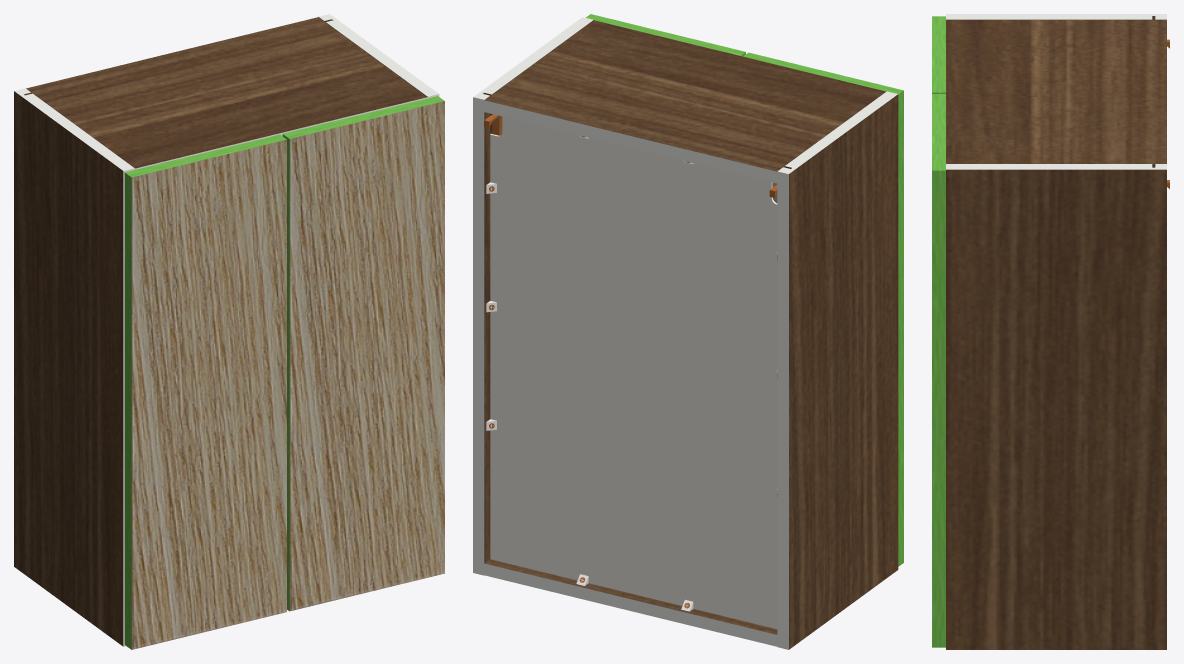
File: pudge.glb
The picture shows the model from 3 angles, left to right: view 1: azimuth 30°, elevation 25°; view 2: azimuth 150°, elevation 25°; view 3: azimuth 270°, elevation 25°; orthographic projection.
Parts seen in each view (by area): view 1: color, color.002, color.001; view 2: color, color.002, color.001; view 3: color, color.001, color.002.
Boxes of the visible parts, x1=… form: color: x1=14, y1=14, x2=439, y2=646; color.002: x1=124, y1=134, x2=286, y2=649; color.001: x1=282, y1=96, x2=444, y2=611; color: x1=473, y1=17, x2=898, y2=649; color.002: x1=743, y1=52, x2=903, y2=566; color.001: x1=585, y1=14, x2=745, y2=56; color: x1=946, y1=14, x2=1169, y2=649; color.001: x1=932, y1=94, x2=945, y2=647; color.002: x1=932, y1=16, x2=945, y2=93.
Size of the model in its own units: 5 by 7.2 by 3.23.
8 materials, 7 textured.
